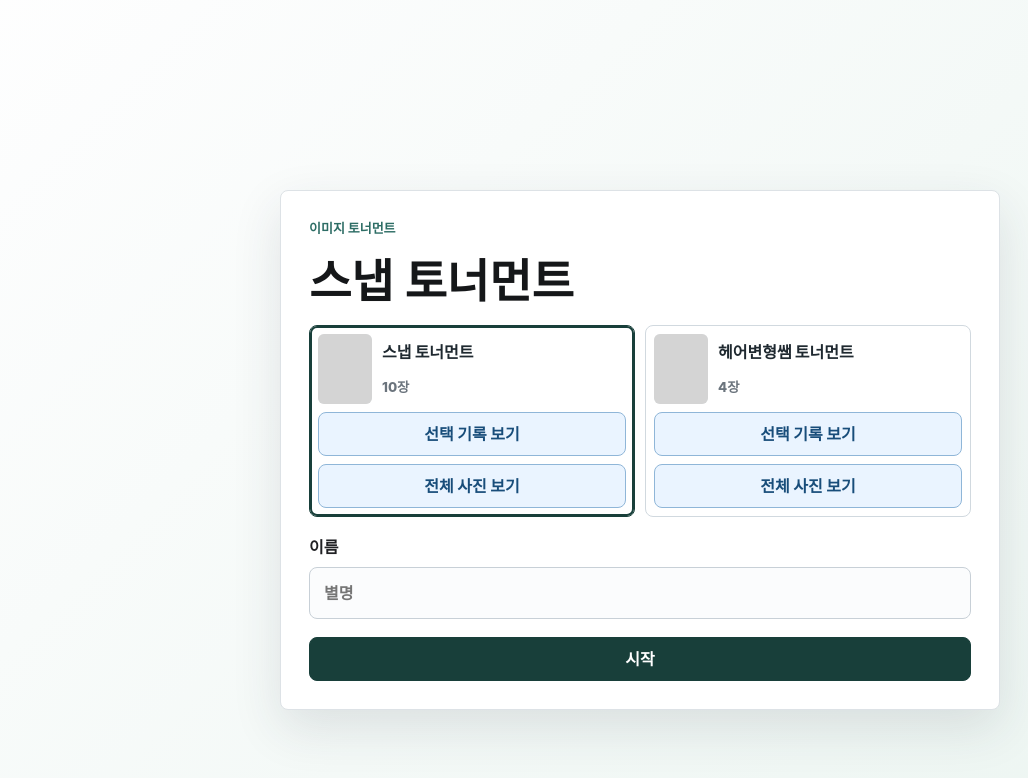
Test case: App › does not start without a nickname
The width and height of the screenshot is (1028, 778).
Expected: the heading "스냅 토너먼트" is shown, [309,253,574,309]
What coordinates should you click on to do the following:
click the button "시작"
I would click on:
 (640, 659)
Its box is [309,637,971,681].
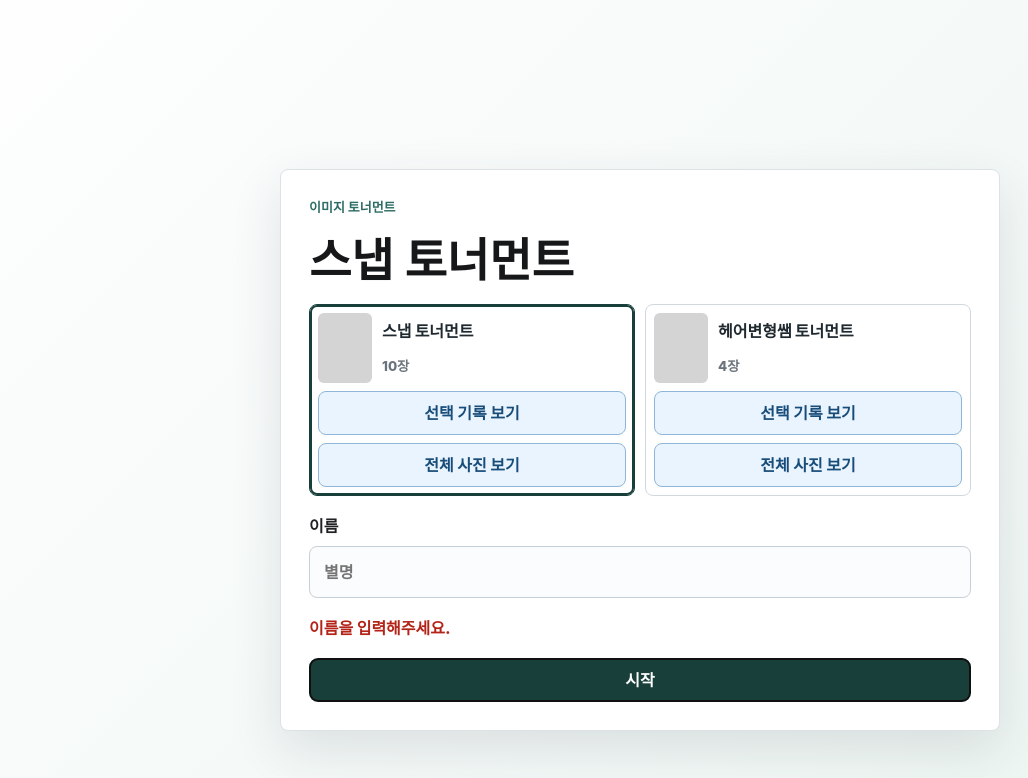
Result: the text "이름을 입력해주세요." is shown at [309,618,451,638]
